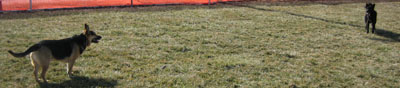dog: (7, 23, 103, 84), (363, 3, 379, 34)
